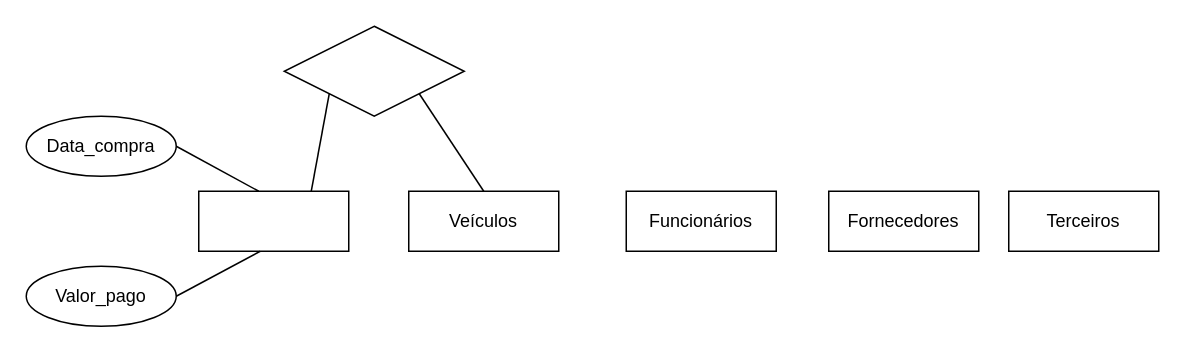
Some shapes in this 1185 by 353 pixel diagram are drawn without their labels. The shapes that lost their labels are listed below. From the top down, each one's centre as x and y in pixels, then its label:
At (x=373, y=70): "Faz_locação".
At (x=273, y=220): "Clientes".
